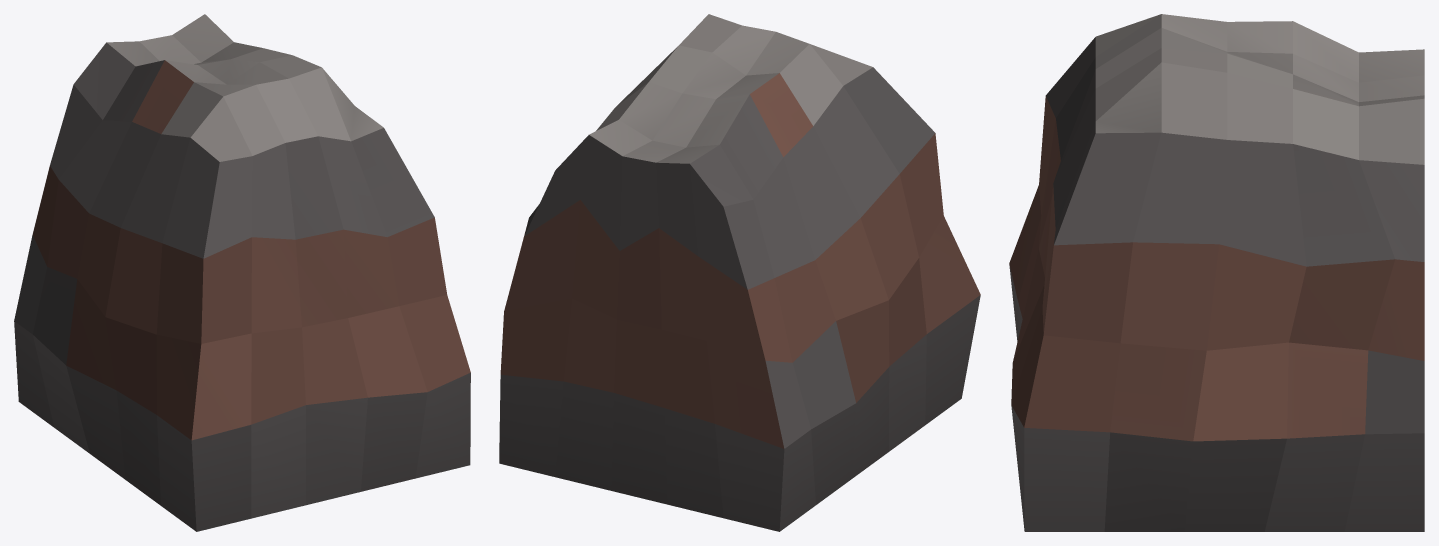
File: roca_punta.glb
The picture shows the model from 3 angles, left to right: view 1: azimuth 30°, elevation 25°; view 2: azimuth 150°, elevation 25°; view 3: azimuth 270°, elevation 25°; orthographic projection. The views are drawn at different scales.
Parts seen in each view (by area): view 1: propforge-cuartos-roca_punta; view 2: propforge-cuartos-roca_punta; view 3: propforge-cuartos-roca_punta.
Part boxes in pixels (x1=…): propforge-cuartos-roca_punta: x1=14, y1=14, x2=470, y2=531; propforge-cuartos-roca_punta: x1=499, y1=14, x2=980, y2=531; propforge-cuartos-roca_punta: x1=1009, y1=14, x2=1424, y2=531.
Bounding box in the file's own units: 0.9026 × 1.05 × 0.9345.
